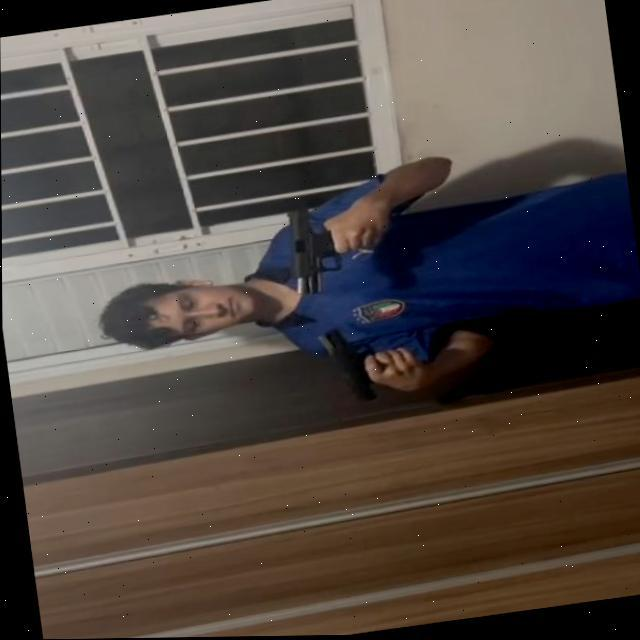gun: (312, 321, 384, 412), (284, 203, 342, 300)
